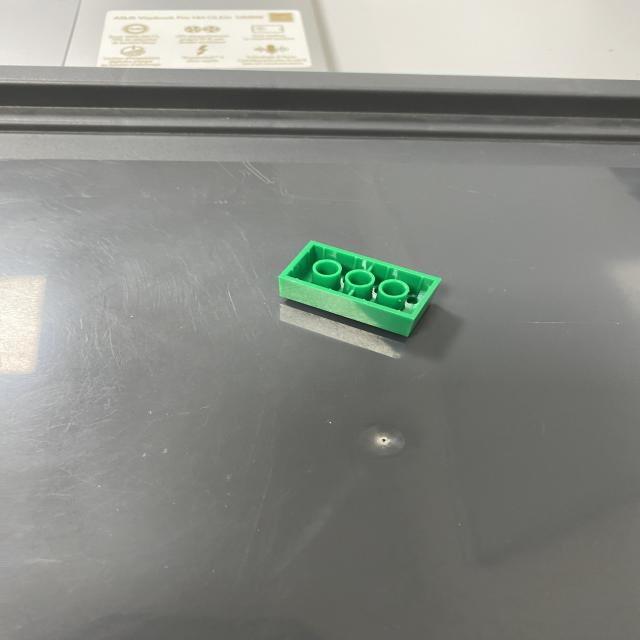C4x2x1: (279, 239, 440, 317), (281, 275, 415, 339)
